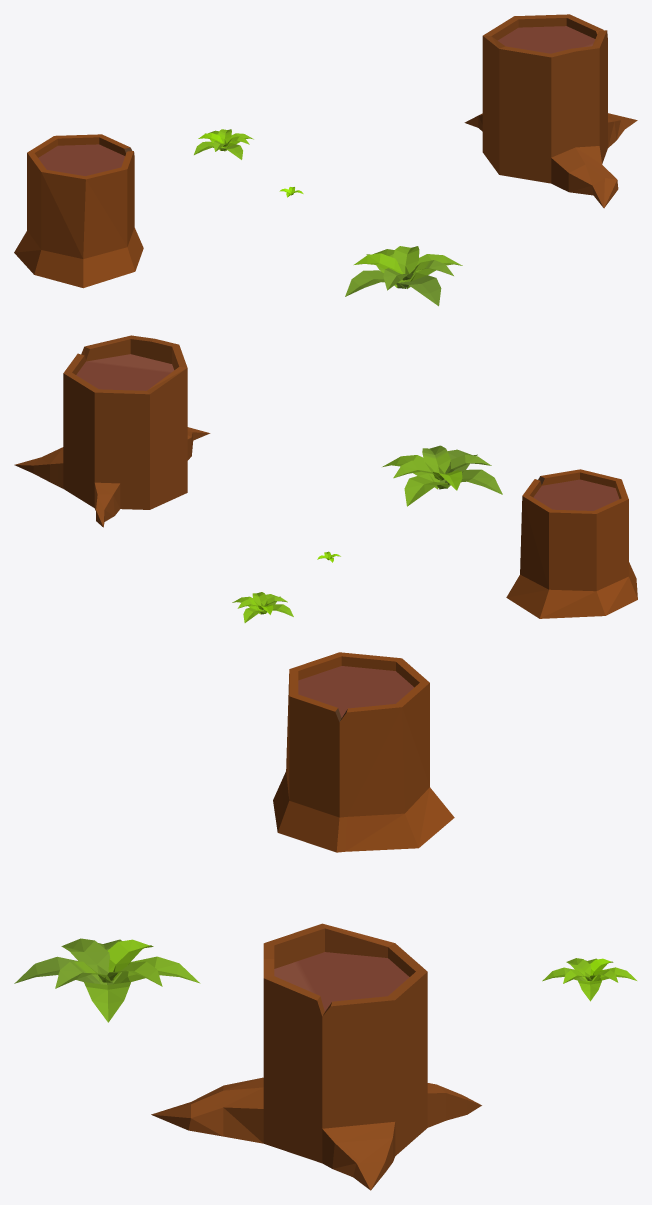
File: grass.glb
3 renders of one model, top to bottom at view 1: azimuth 30°, elevation 25°; view 2: azimuth 150°, elevation 25°; view 3: azimuth 270°, elevation 25°, orthographic. The views are drawn at different scales.
Visible parts, largest first — view 1: Tree_Stump_01, Tree_Stump_02, Plant_01, Plant_02; view 2: Tree_Stump_01, Tree_Stump_02, Plant_01, Plant_02; view 3: Tree_Stump_01, Tree_Stump_02, Plant_01, Plant_02.
Part boxes in pixels (x1,y1,x2,y2): Tree_Stump_01: (464, 14, 637, 208); Tree_Stump_02: (14, 134, 143, 288); Plant_01: (345, 246, 462, 306); Plant_02: (194, 129, 253, 159); Tree_Stump_01: (14, 335, 210, 527); Tree_Stump_02: (506, 469, 637, 618); Plant_01: (382, 445, 502, 506); Plant_02: (232, 592, 293, 622); Tree_Stump_01: (151, 923, 481, 1190); Tree_Stump_02: (273, 652, 454, 852); Plant_01: (14, 938, 200, 1022); Plant_02: (542, 958, 636, 1001).
Size of the model in its own units: 4.53 by 0.9615 by 2.97.
1 material, 1 textured.
